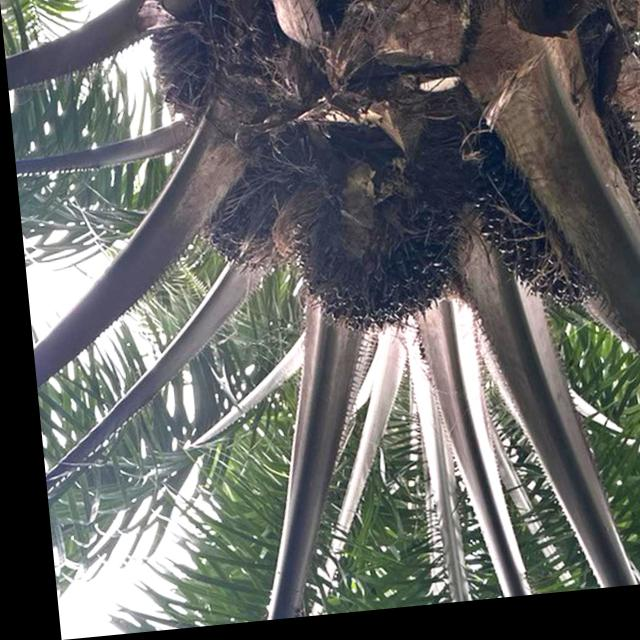unripe: (463, 121, 640, 324), (287, 192, 470, 346), (190, 174, 290, 285)
